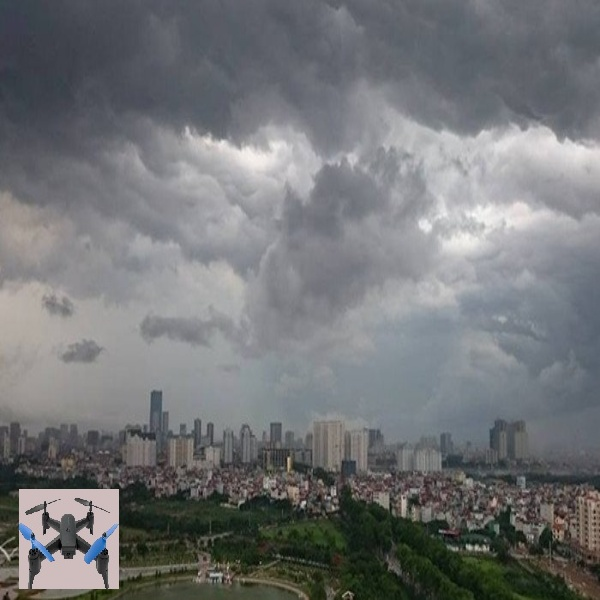drone: (18, 491, 114, 591)
